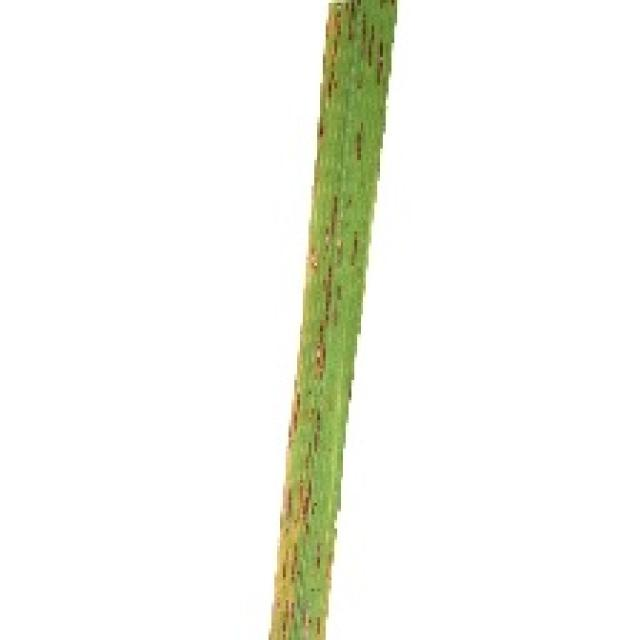Unhealthy: (314, 265, 344, 381), (292, 474, 318, 535), (328, 11, 341, 97), (304, 411, 320, 469), (326, 195, 341, 254), (282, 542, 302, 584), (289, 394, 301, 451), (345, 0, 361, 41), (280, 599, 295, 640), (306, 247, 321, 275), (376, 40, 384, 87), (355, 121, 364, 161), (368, 24, 375, 69), (285, 486, 292, 521), (351, 232, 358, 266), (360, 12, 367, 45), (336, 242, 343, 269), (320, 117, 327, 138), (316, 545, 321, 570), (317, 616, 321, 635), (325, 20, 329, 37), (323, 54, 326, 74), (391, 0, 395, 6)
